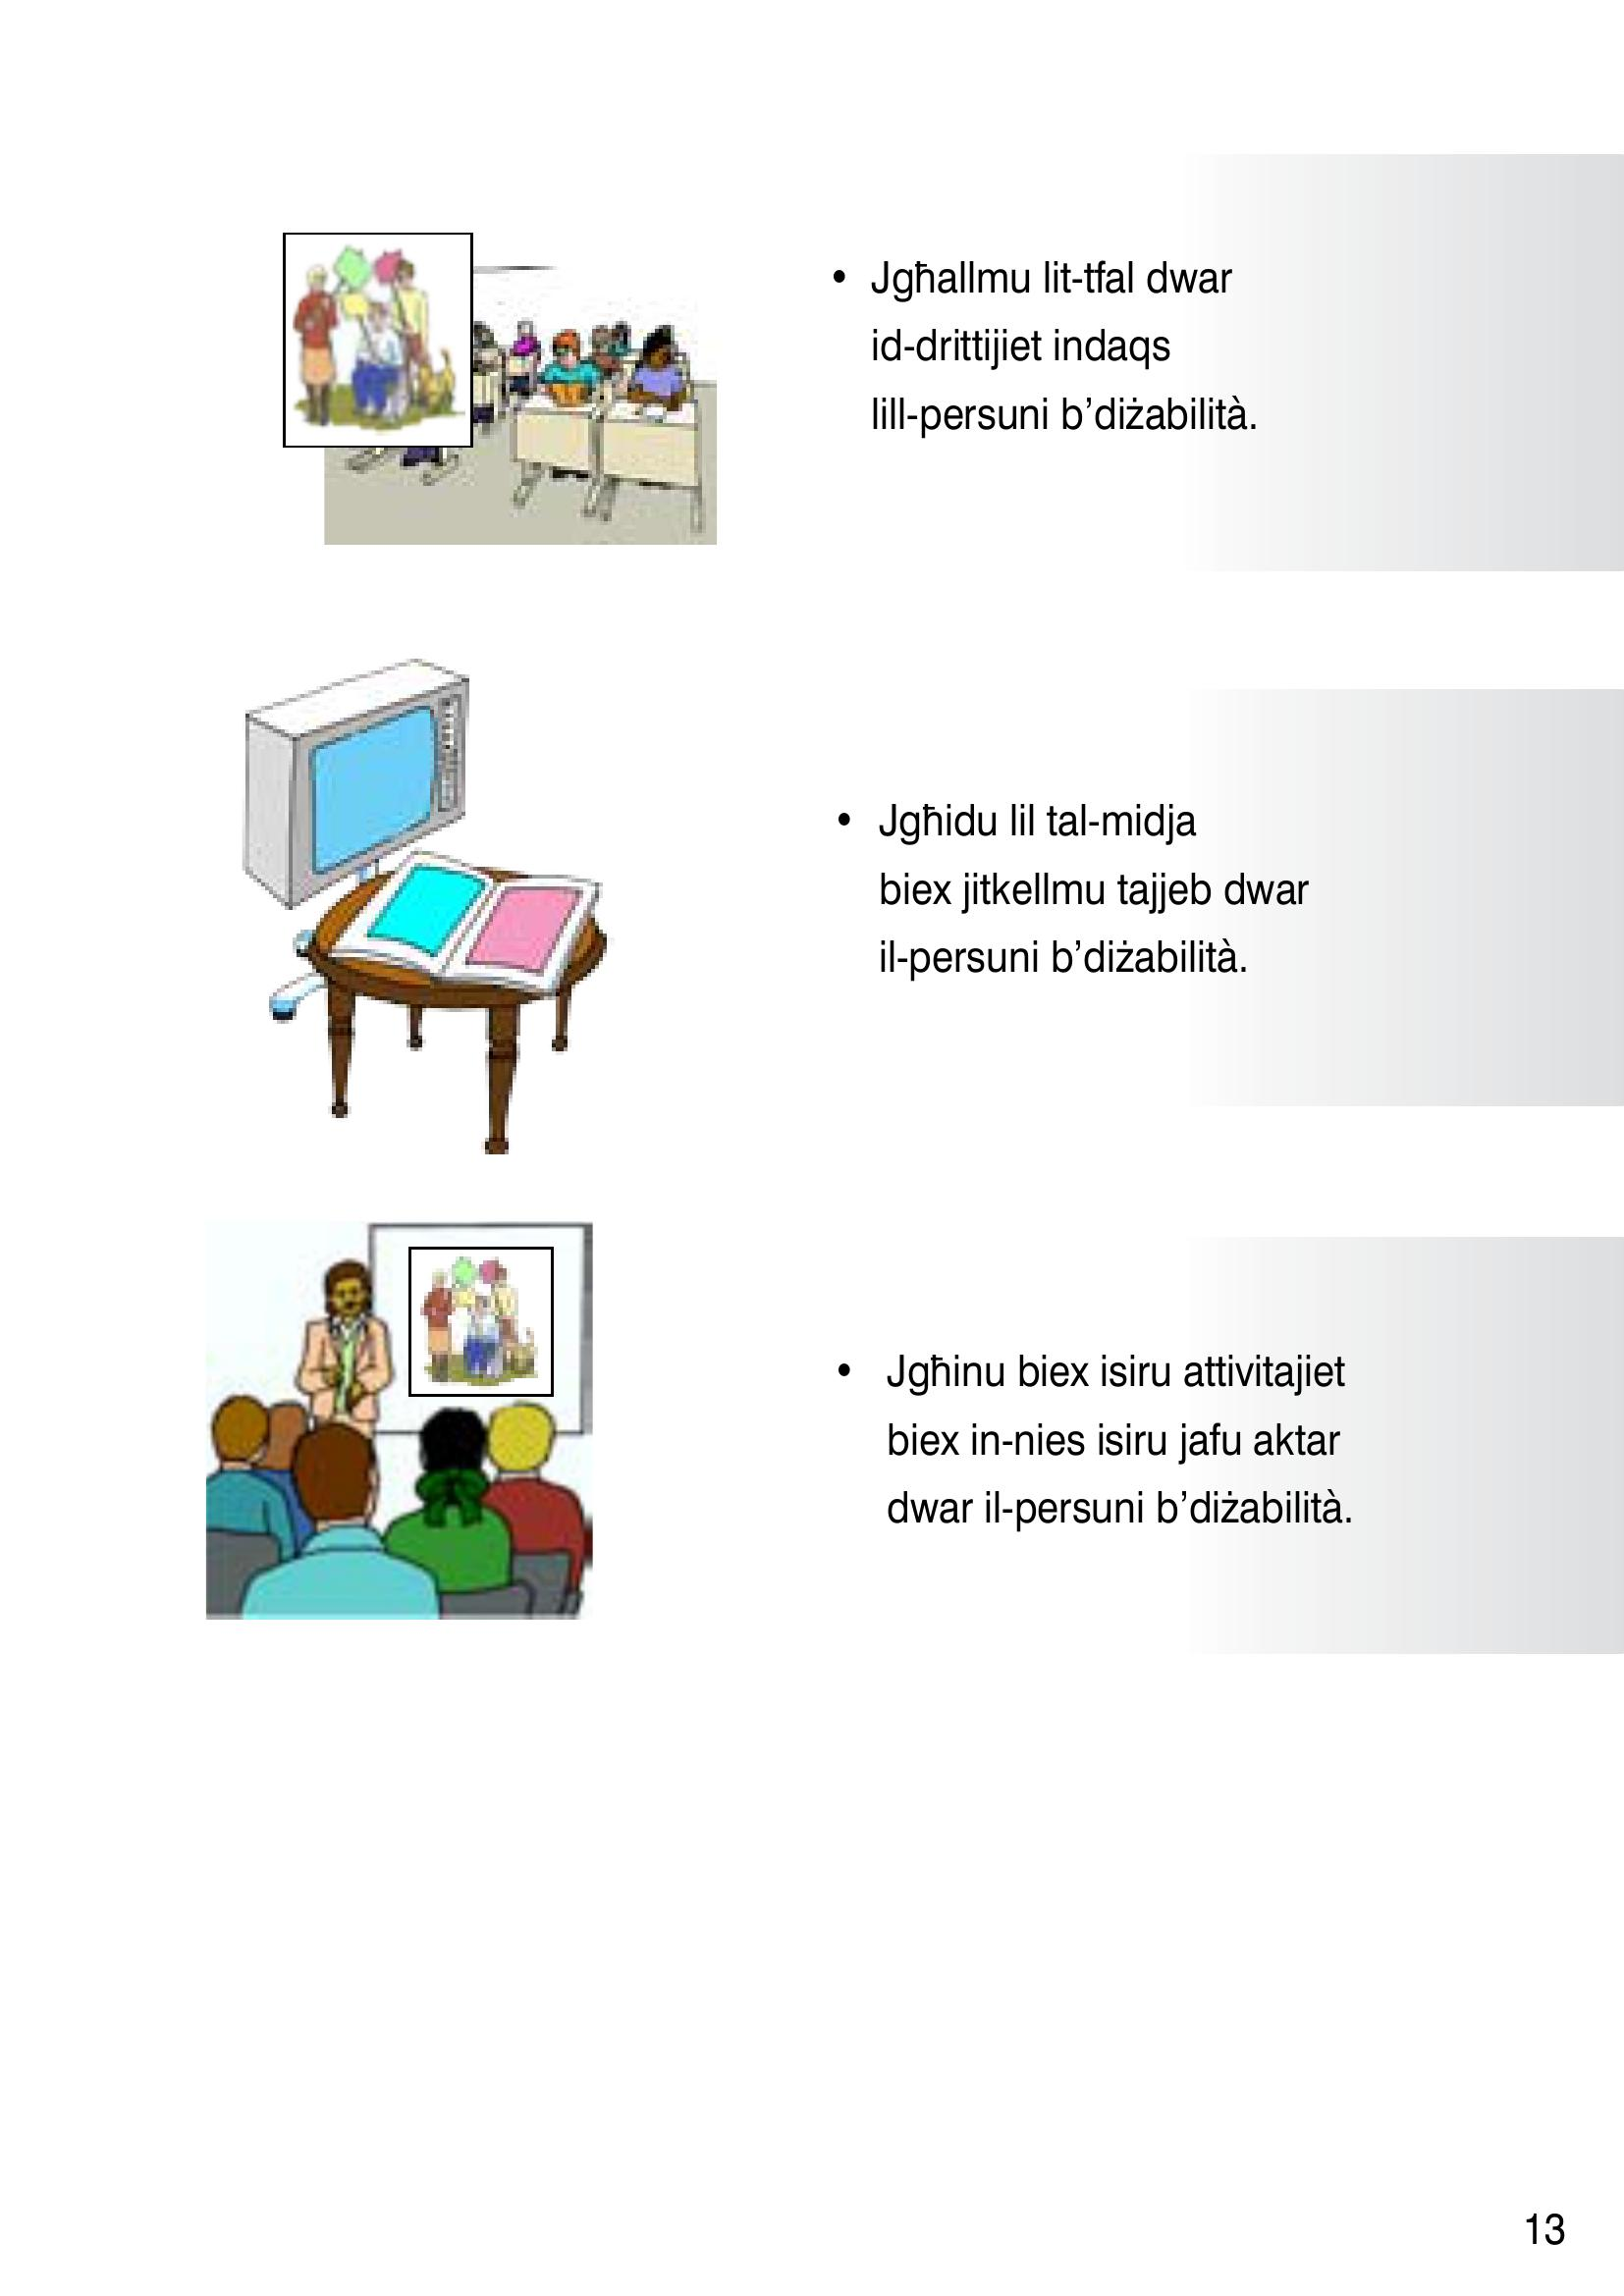text: (789, 207, 1383, 1590)
